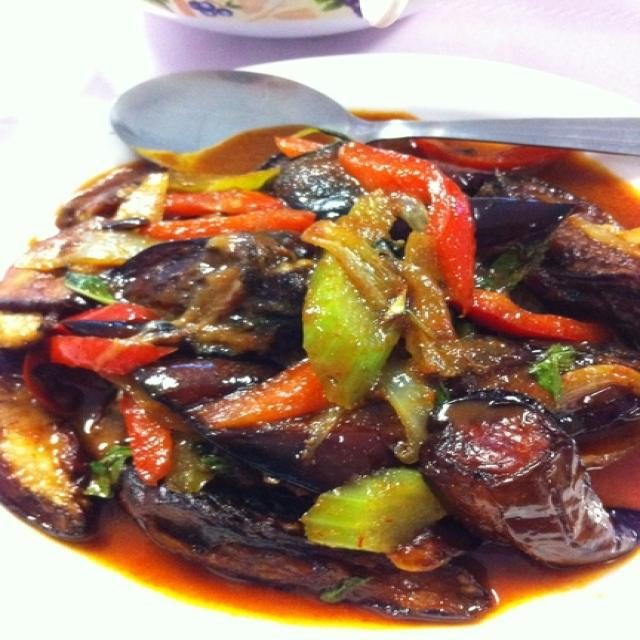鸡蛋料理: (9, 34, 627, 610)
